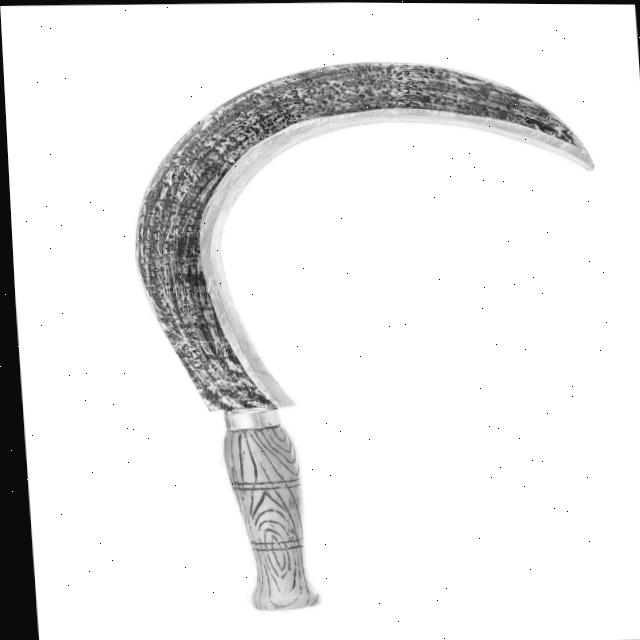celurit: (108, 48, 606, 616)
